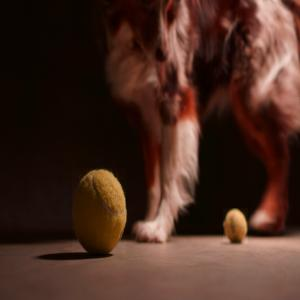TennisBall: (73, 169, 128, 255), (224, 209, 250, 245)
